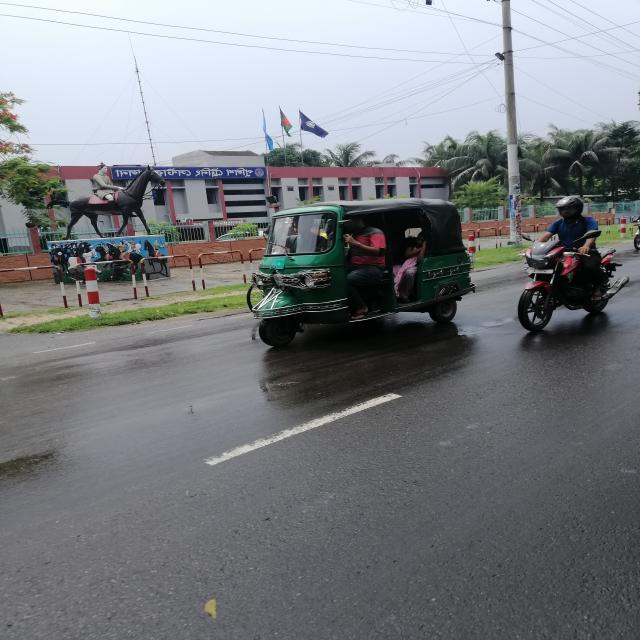CNG: (183, 181, 488, 380)
Motorbike: (490, 225, 640, 358)
